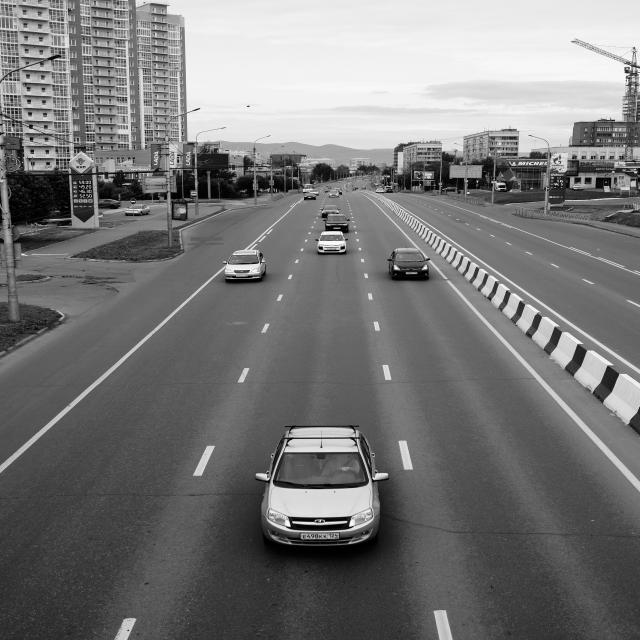Car: (253, 424, 389, 548), (222, 249, 266, 282), (387, 248, 430, 279), (316, 231, 348, 254), (324, 214, 349, 232), (124, 205, 150, 216), (320, 205, 340, 218), (98, 198, 121, 209)
